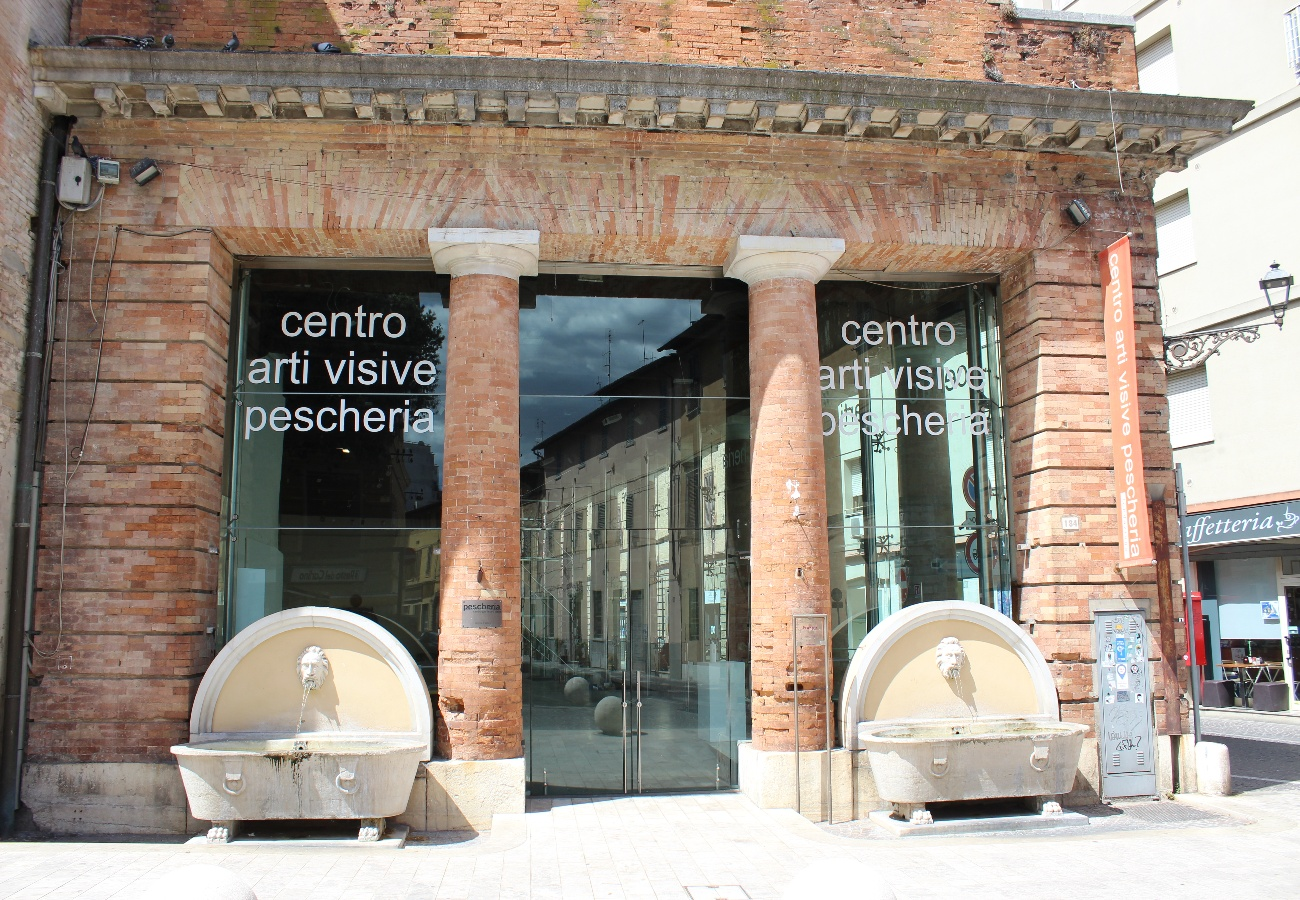Centro Arti Visive Pescheria: (1, 1, 1253, 836)
